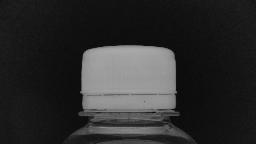Good Cap: (72, 42, 184, 120)
